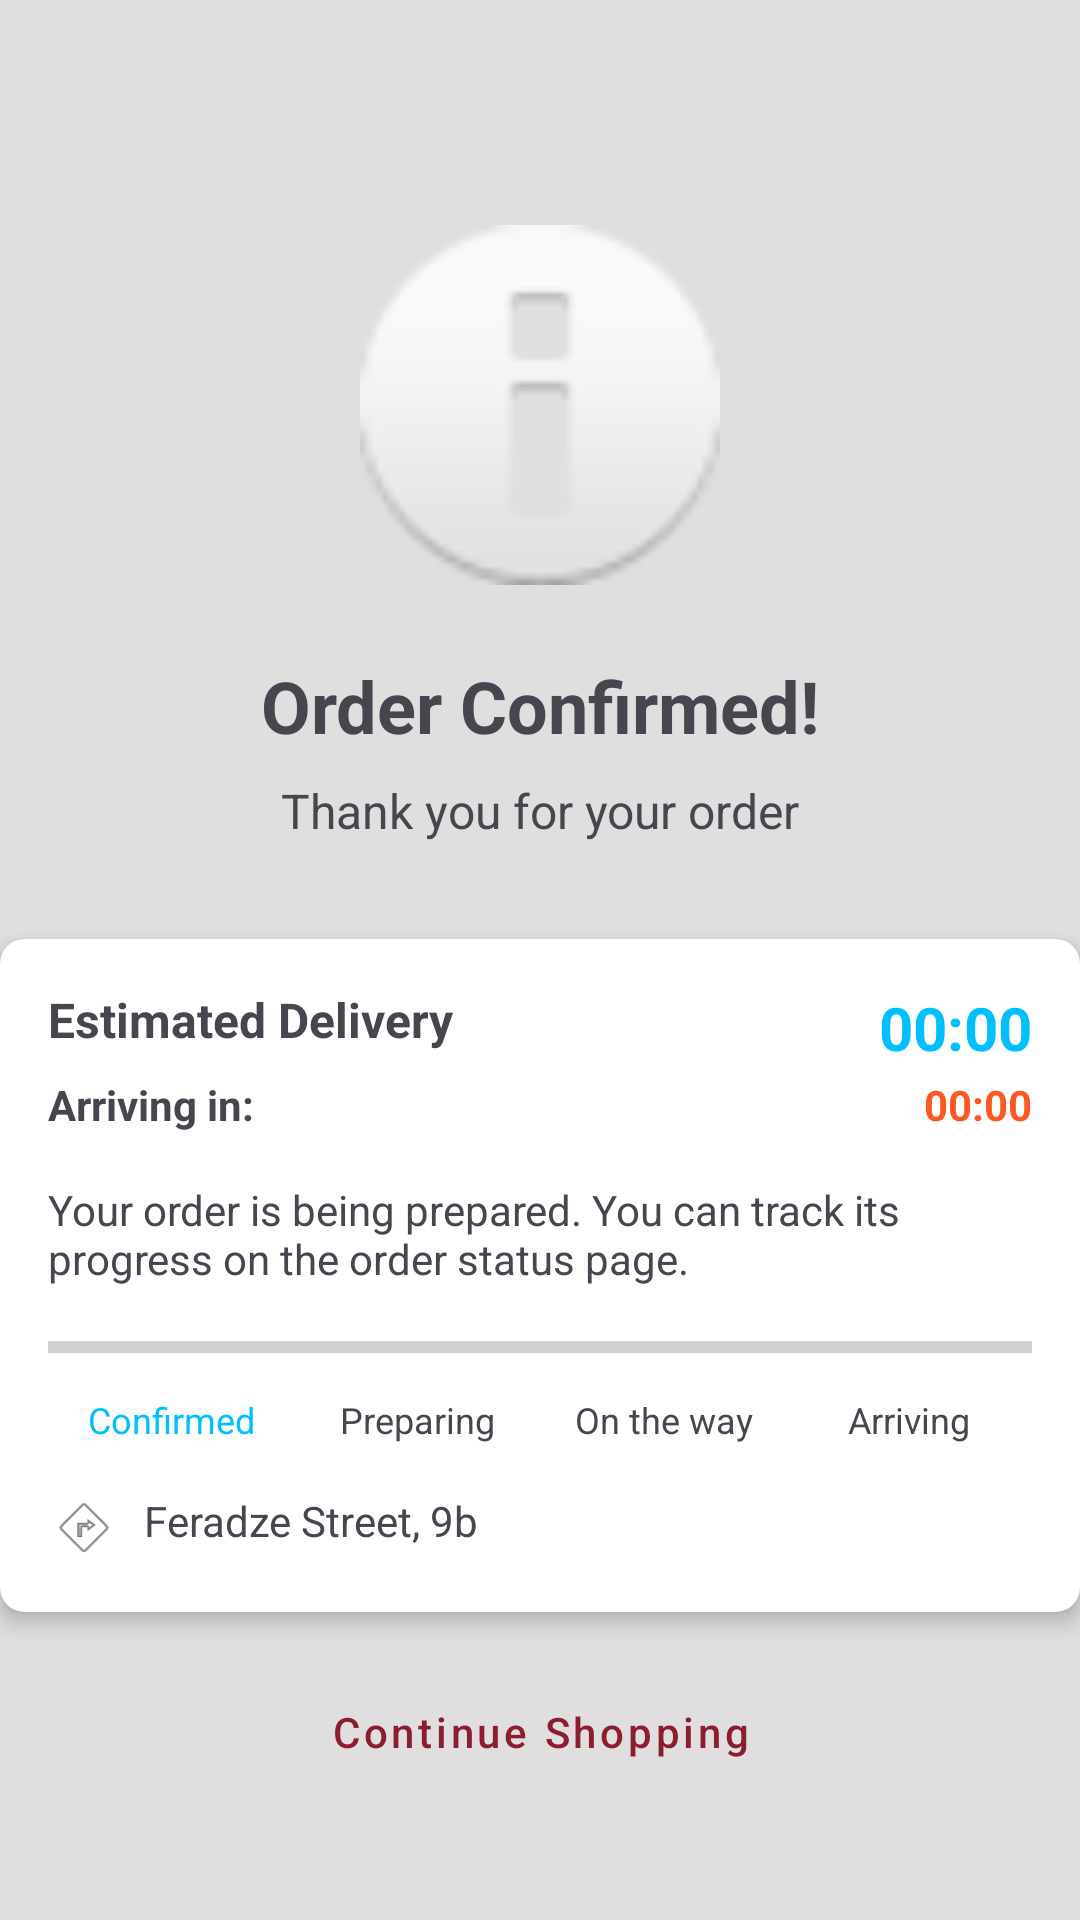

Named icons in this screenshot (1080 x 1920) and their bounding boxes, (x1, y1, x2, y2):
directions: (59, 1503, 109, 1552)
info: (373, 225, 706, 585)
